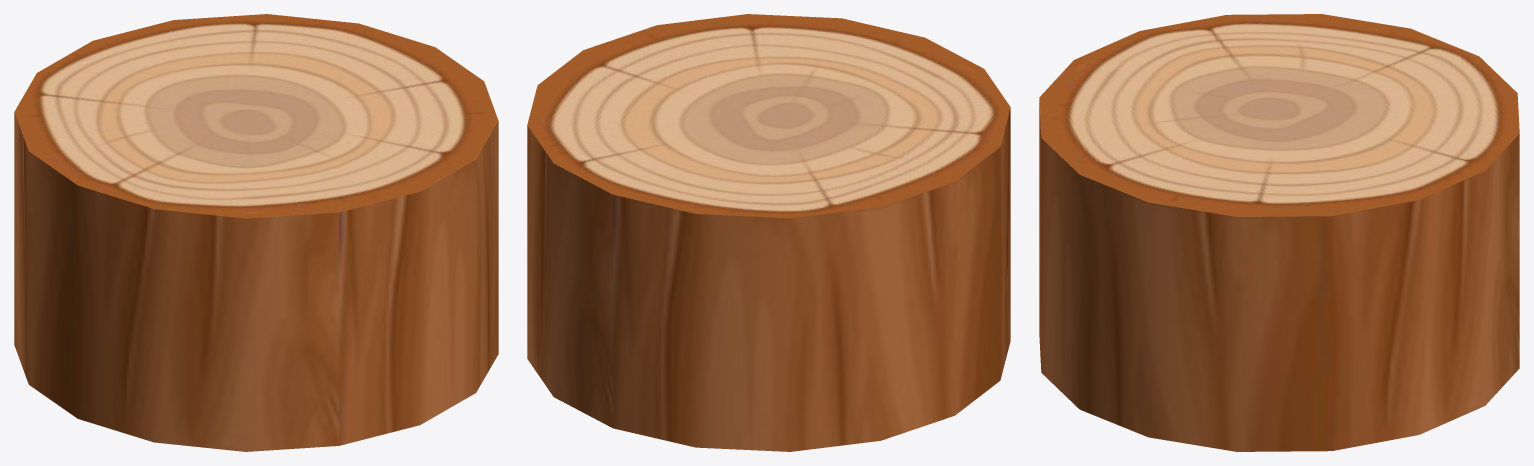
The model's file is log_02.fbx.
3 views of the same model, side by side, from view 1: azimuth 30°, elevation 25°; view 2: azimuth 150°, elevation 25°; view 3: azimuth 270°, elevation 25° (orthographic).
Parts seen in each view (by area): view 1: log_02; view 2: log_02; view 3: log_02.
Part boxes in pixels (x1,y1,x2,y2): log_02: [14, 14, 498, 451]; log_02: [527, 14, 1010, 451]; log_02: [1039, 14, 1519, 451].
Bounding box in the file's own units: 74.15 × 40 × 74.15.
